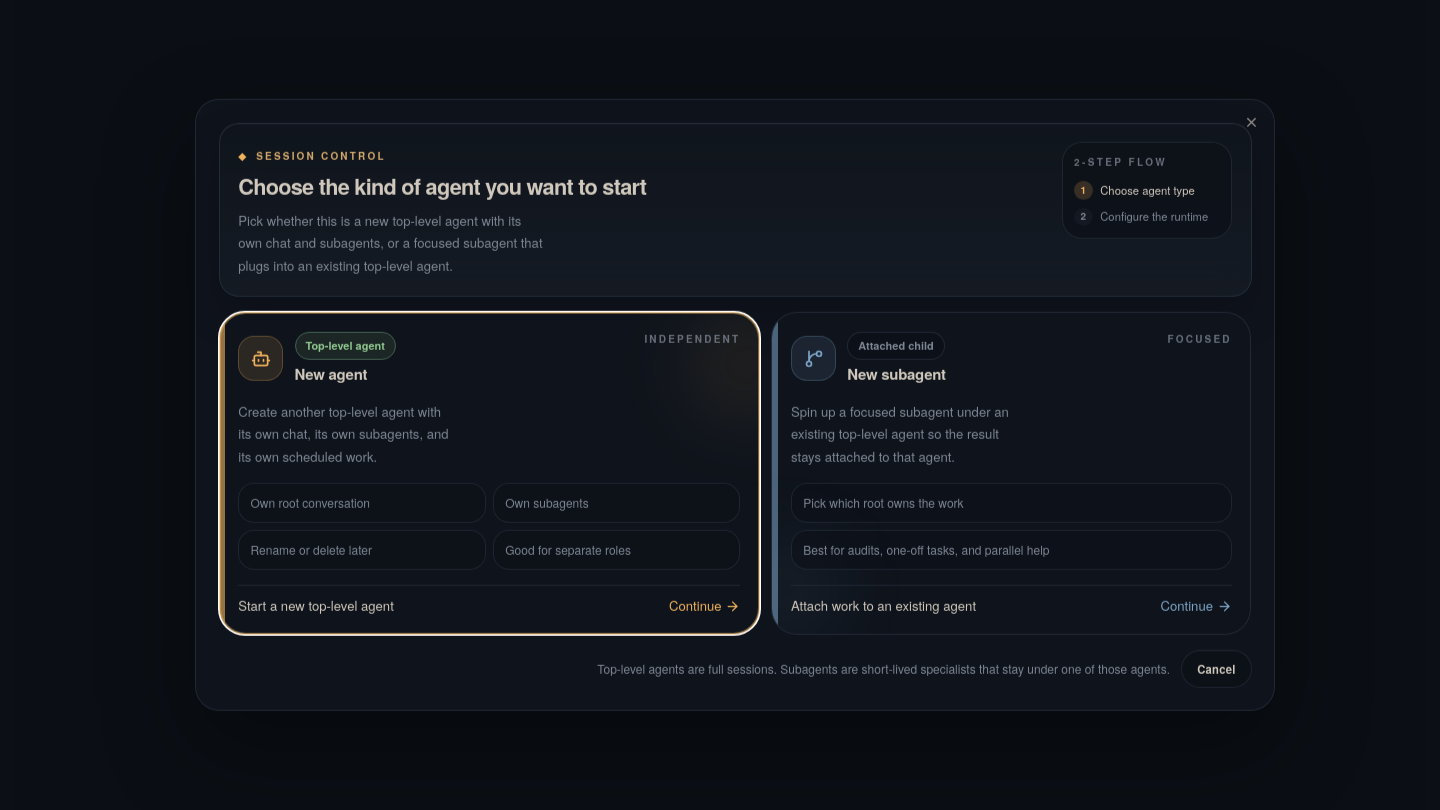
it: SpawnAgentDialog › disables launch and shows an error when no configured models are available
Click the text "New agent": {"x": 331, "y": 374} [294,363,367,385]
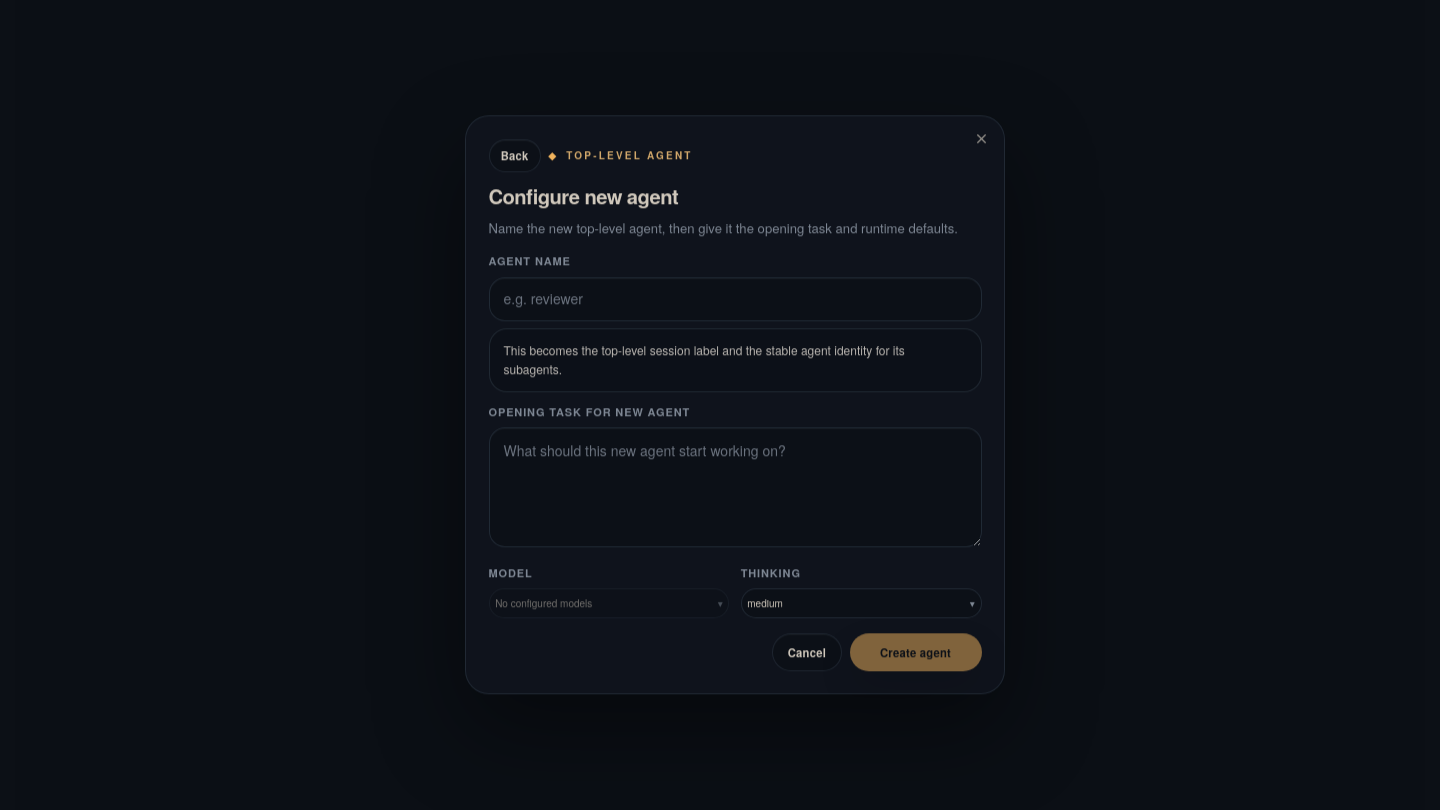
In the field with placeholder "e.g. reviewer": {"x": 735, "y": 299} [488,277,982,321], type "research"
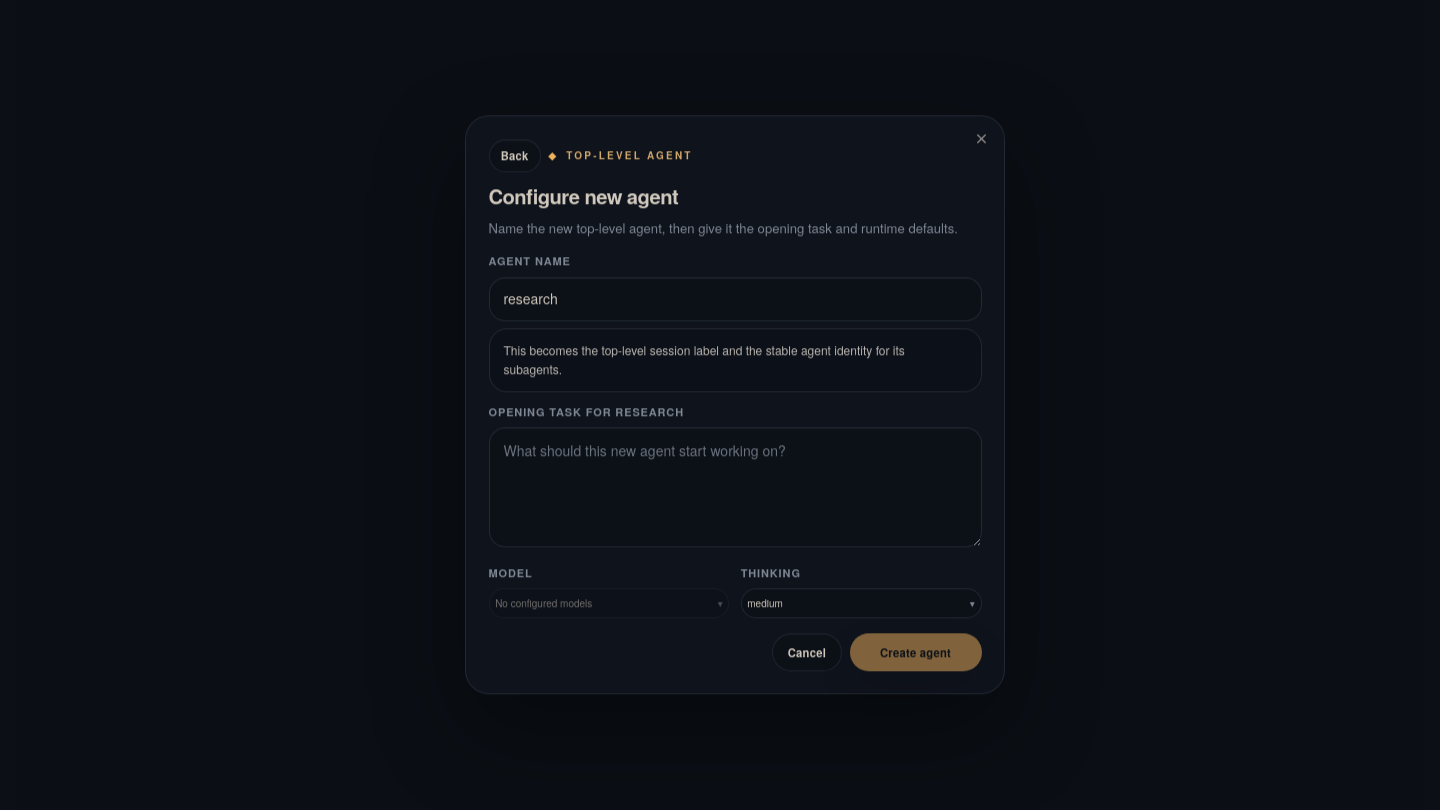
In the text box with placeholder "What should this new agent start working on?": {"x": 735, "y": 488} [488,428,982,548], type "test task"
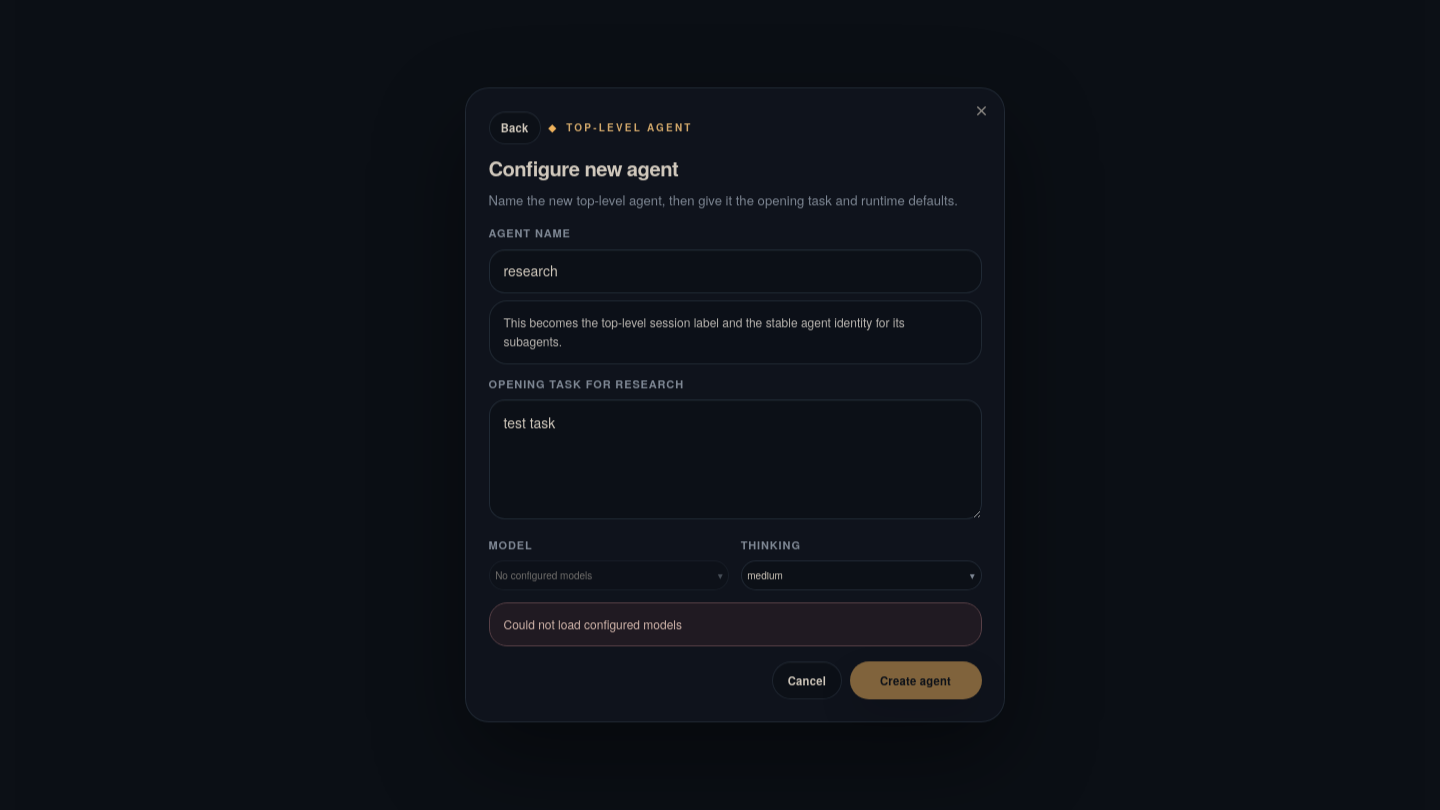
Expected: the button with aria-label "Select model" is disabled, [488,561,729,591]
Expected: the button "Create agent" is disabled, [850,662,982,699]
Expected: the text "Could not load configured models" is shown, [488,602,982,647]
